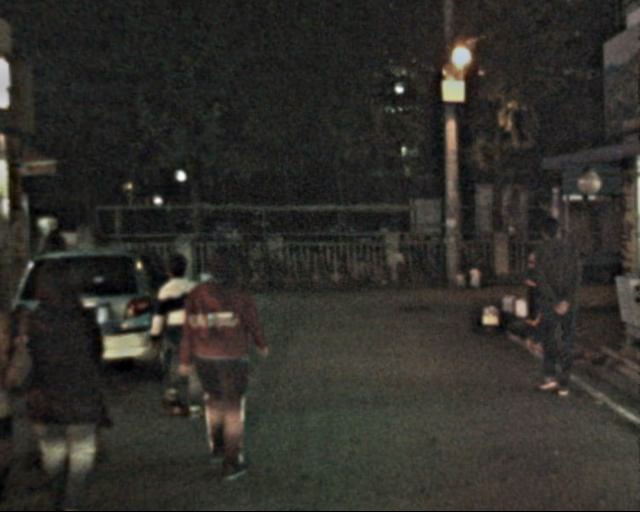person: (21, 249, 121, 510), (170, 243, 263, 483), (517, 208, 587, 410), (138, 243, 204, 428)
